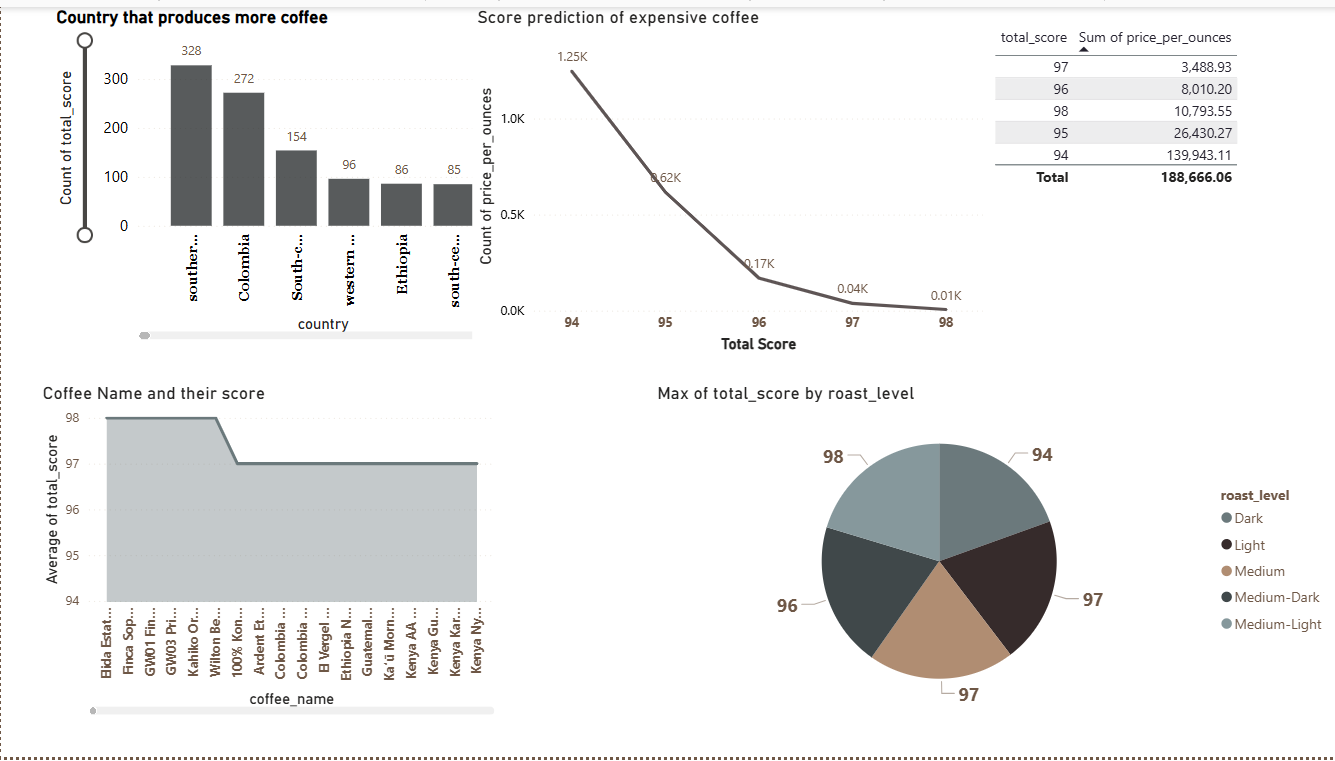

The dashboard page shown, as its layout file describes it:
{"tool":"powerbi","page":{"name":"Page 1","canvas":[1280,720],"ordinal":0},"visuals":[{"type":"columnChart","title":"Country that produces more coffee","fields":{"Category":["top_rated_coffee final final.country"],"Y":["CountNonNull(top_rated_coffee final final.total_score)"]},"box":[48.8,0,442.8,324],"z":0},{"type":"tableEx","fields":{"Values":["top_rated_coffee final final.total_score","Sum(top_rated_coffee final final.price_per_ounces)"]},"box":[947.5,13,311,273.5],"z":1000},{"type":"lineChart","title":"Score prediction of expensive coffee","fields":{"Category":["top_rated_coffee final final.total_score"],"Y":["CountNonNull(top_rated_coffee final final.price_per_ounces)"]},"box":[452.6,0,494.9,335.4],"z":2000},{"type":"stackedAreaChart","title":"Coffee Name and their score","fields":{"Category":["top_rated_coffee final final.coffee_name"],"Y":["Avg(top_rated_coffee final final.total_score)"]},"box":[35.8,359.8,442.8,324],"z":3000},{"type":"pieChart","fields":{"Y":["Max(top_rated_coffee final final.total_score)"],"Category":["top_rated_coffee final final.roast_level"]},"box":[535.6,359.8,656.1,324],"z":3001}]}

Visuals, with their boxes in screenshot pixels (x1, y1, x2, y2), scaled from the page's 1280x720 canvas onto the 1335x761 screenshot:
"Country that produces more coffee" columnChart: [51,0,513,342]
tableEx - top_rated_coffee final final.total_score x Sum(top_rated_coffee final final.price_per_ounces): [988,14,1313,303]
"Score prediction of expensive coffee" lineChart: [472,0,988,354]
"Coffee Name and their score" stackedAreaChart: [37,380,499,723]
pieChart - Max(top_rated_coffee final final.total_score) x top_rated_coffee final final.roast_level: [559,380,1243,723]
